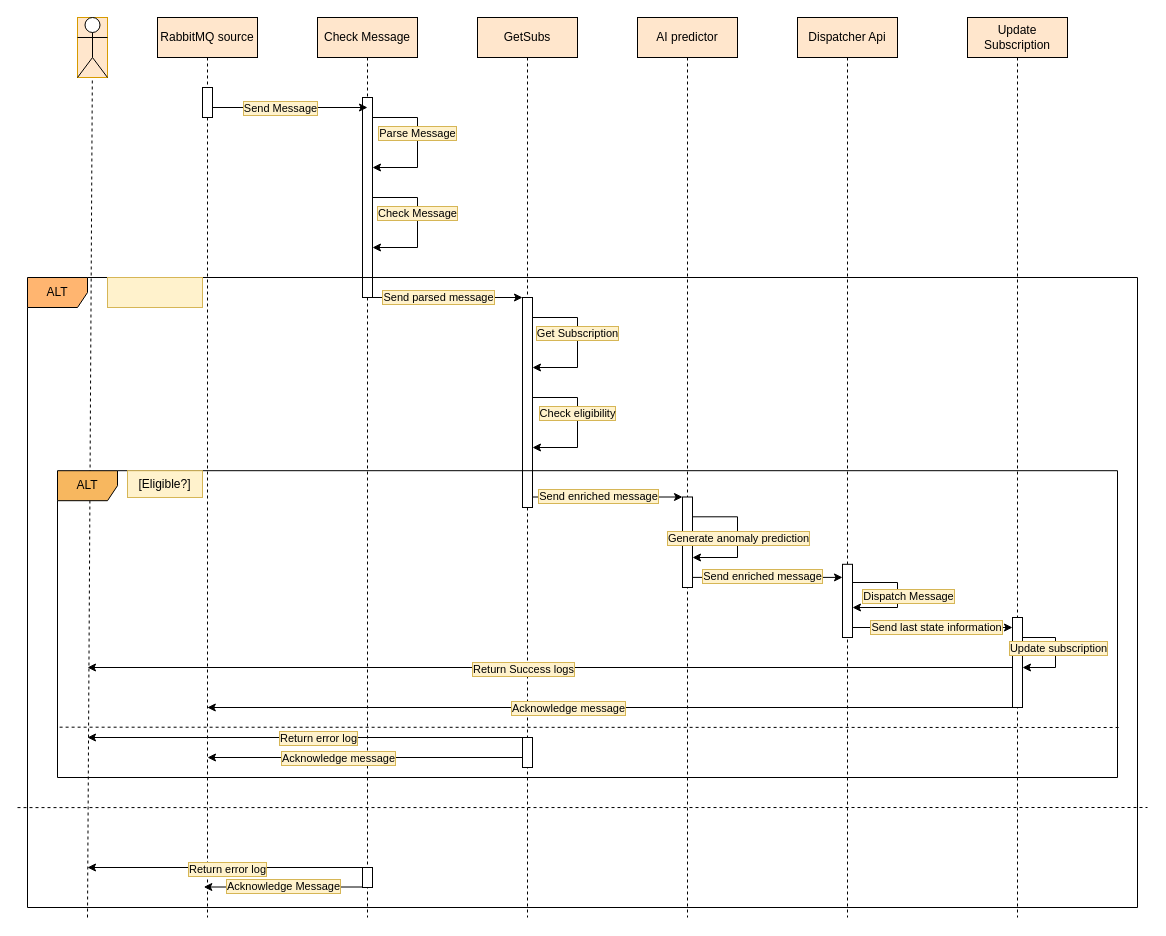
Some shapes in this 1166 by 936 pixel diagram are drawn without their labels. The shapes that lost their labels are listed below. From the top down, each one's centre as x and y in pixels, then its label:
point (92, 47): Admin
point (154, 292): [Valid structure?]
